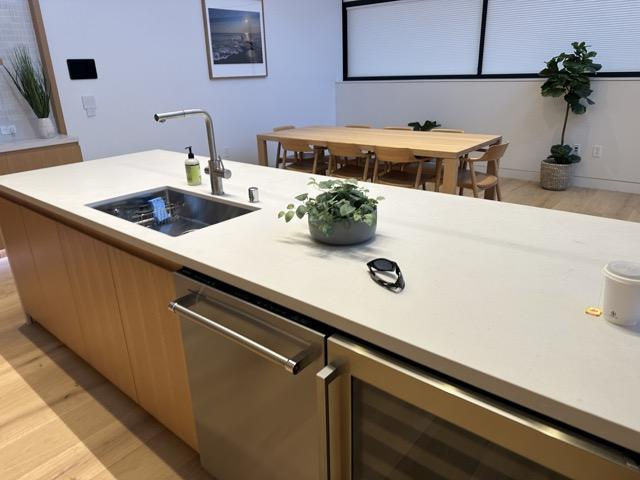Sunglasses: (366, 257, 405, 293)
